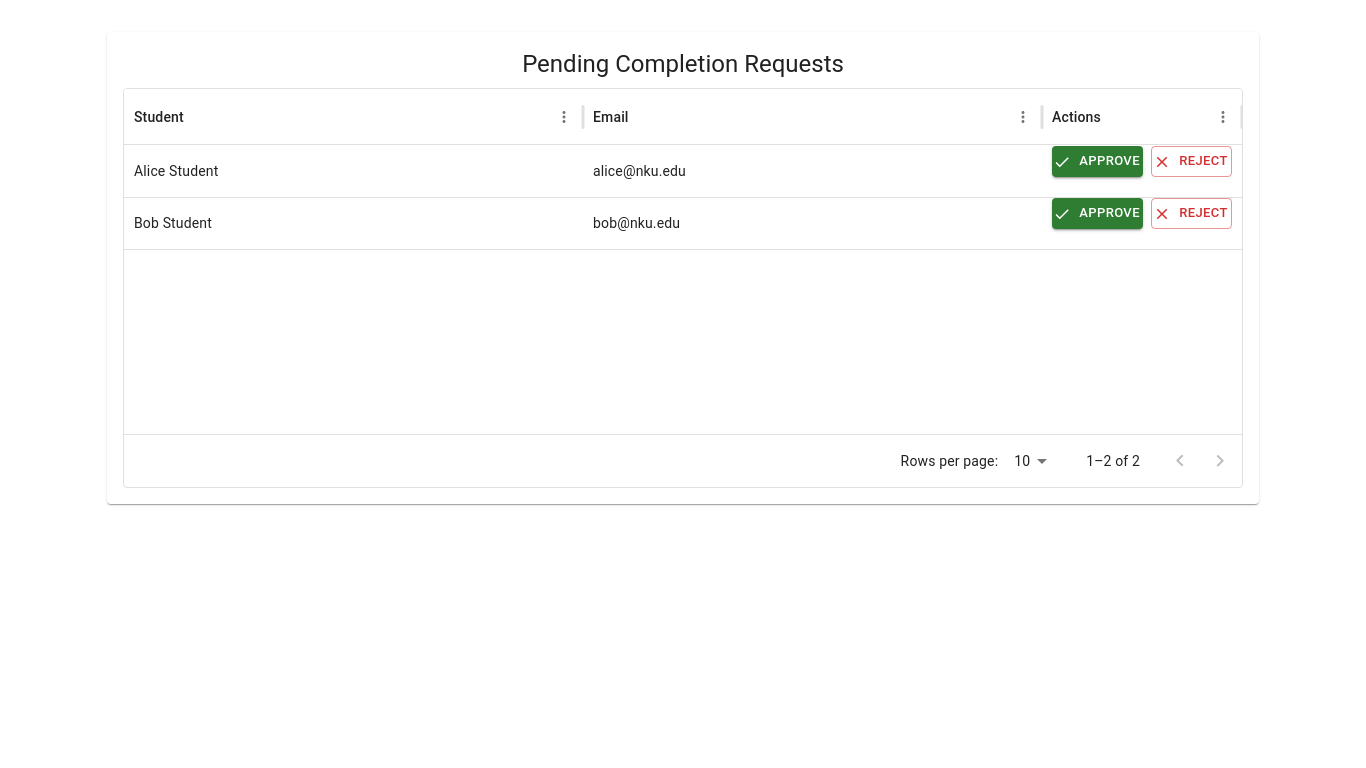
it: Completion Workflow - Teacher Approvals › should approve pending completion
Check: the text "Alice Student" is shown, box [134, 163, 218, 179]
What coordinates should you click on to do the following:
click the button "Approve" in the row of "Alice Student"
I would click on:
 (1098, 162)
Its box is [1052, 146, 1143, 177].
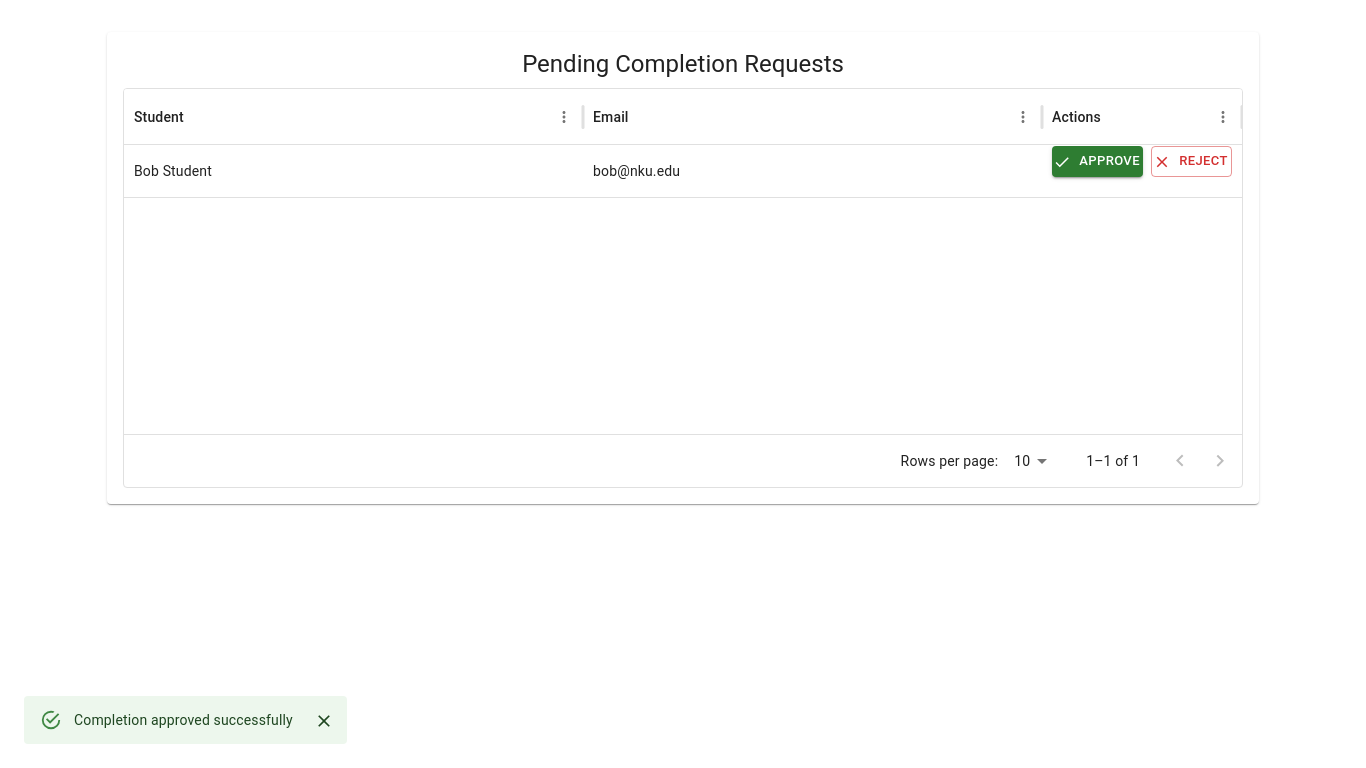
Check: the text "Alice Student" is gone
